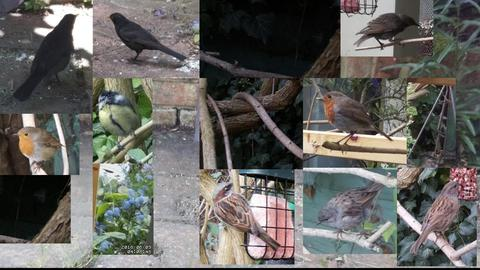blackbird: (12, 12, 80, 101), (105, 12, 187, 66)
blue tit: (96, 91, 140, 151)
dunnock: (316, 180, 384, 242), (410, 180, 464, 254)
robin: (316, 90, 394, 155), (12, 126, 67, 174)
sparrow: (212, 182, 282, 252)
starling: (353, 12, 421, 50)
